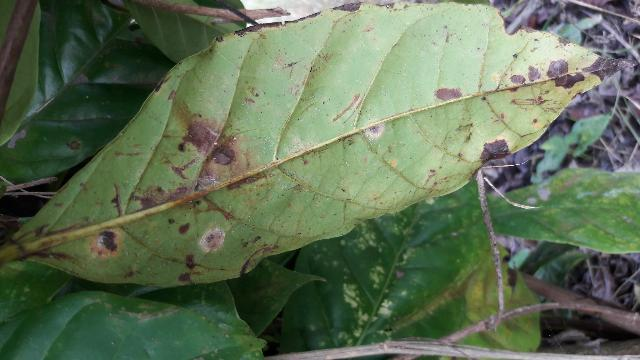red_spider_mite: (32, 0, 616, 285)
